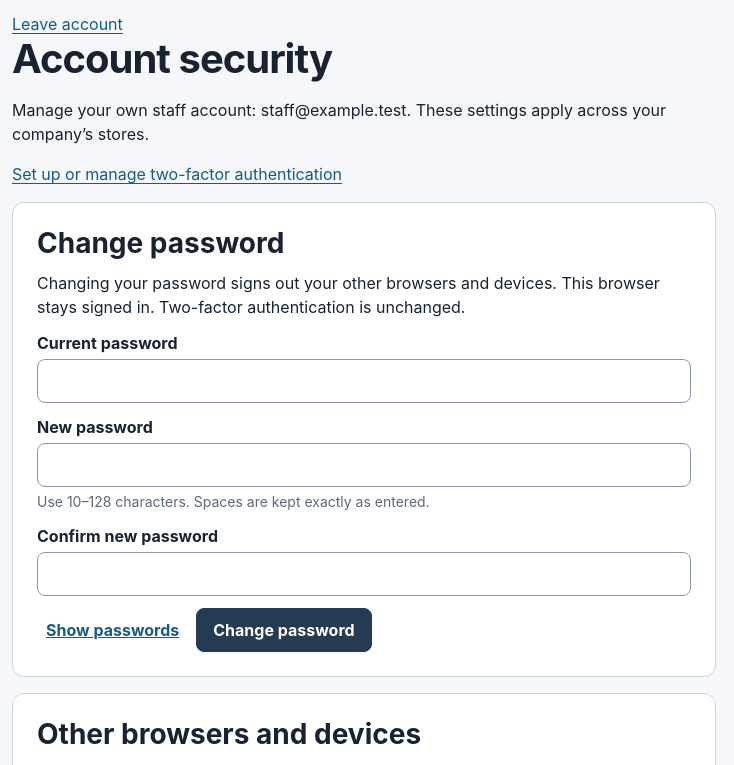
sends untrimmed secrets once, clears fields before the preflight and verifies the reissued session
This screenshot has width=734, height=765.
Type " old password " into the password field labelled "Current password" at (364,381), box x1=37 y1=359 x2=691 y2=403
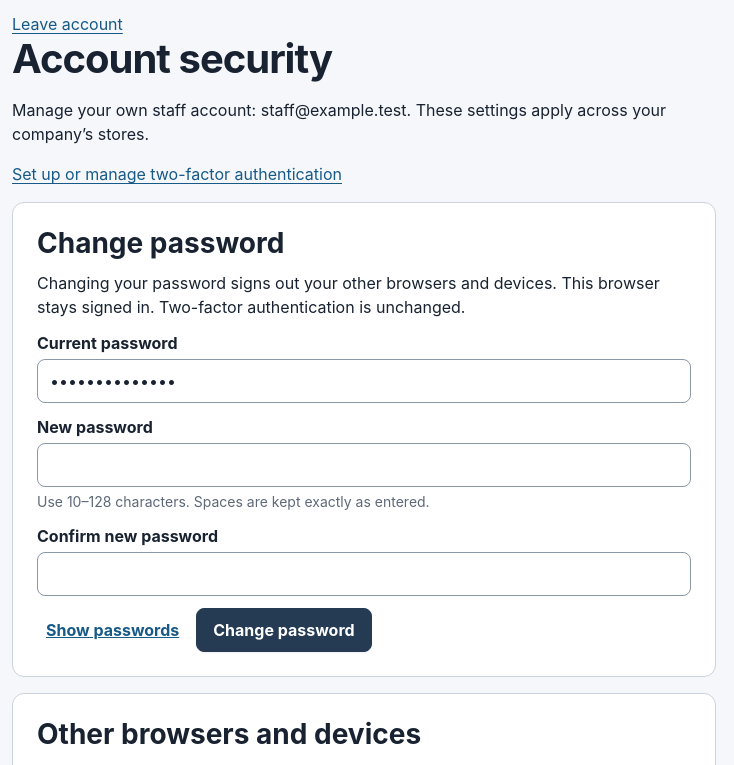
Type " new password " into the password field labelled "New password" at (364,465), box x1=37 y1=443 x2=691 y2=487
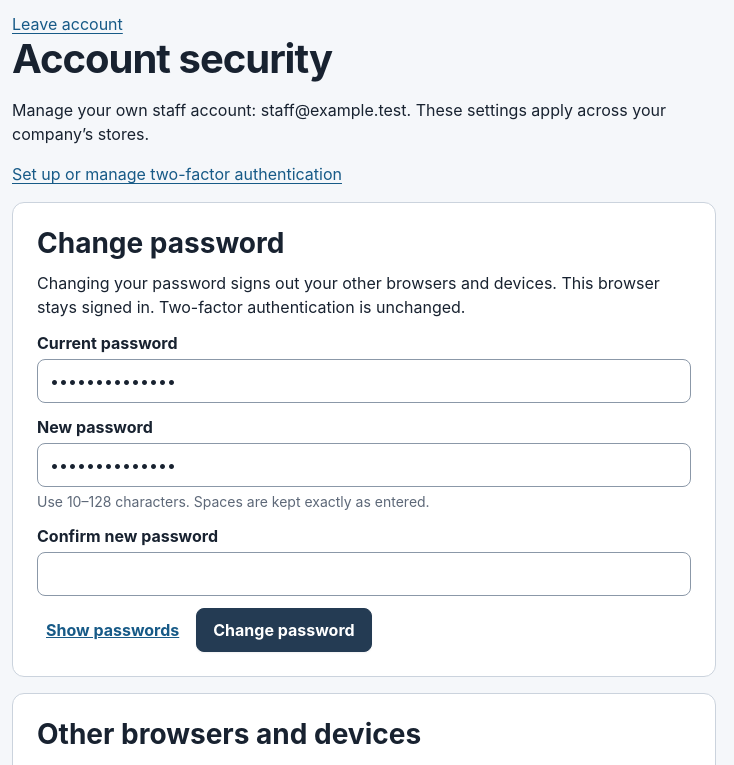
Type " new password " into the password field labelled "Confirm new password" at (364,574), box x1=37 y1=552 x2=691 y2=596
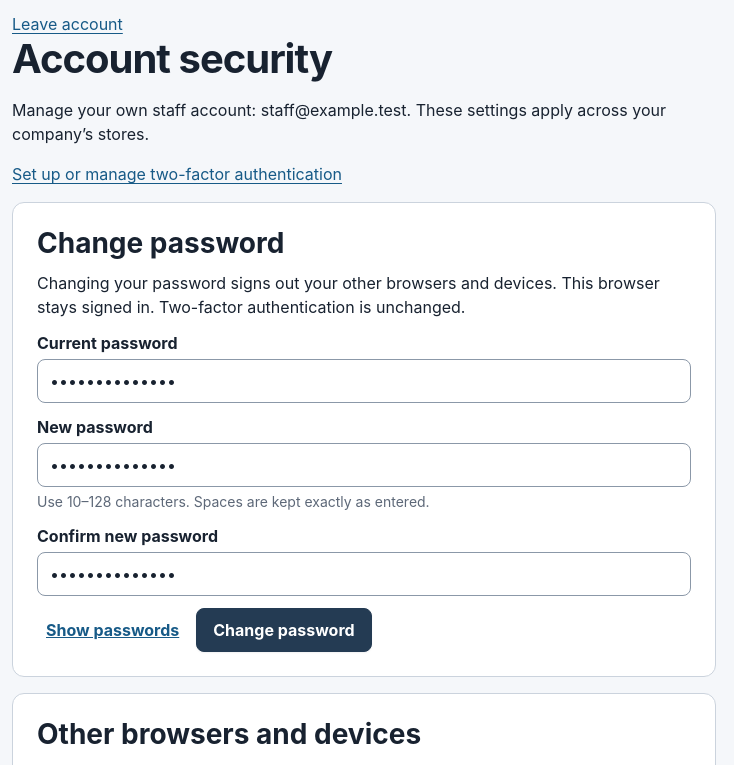
Click the button "Show passwords" at (113,630), box x1=37 y1=608 x2=188 y2=652
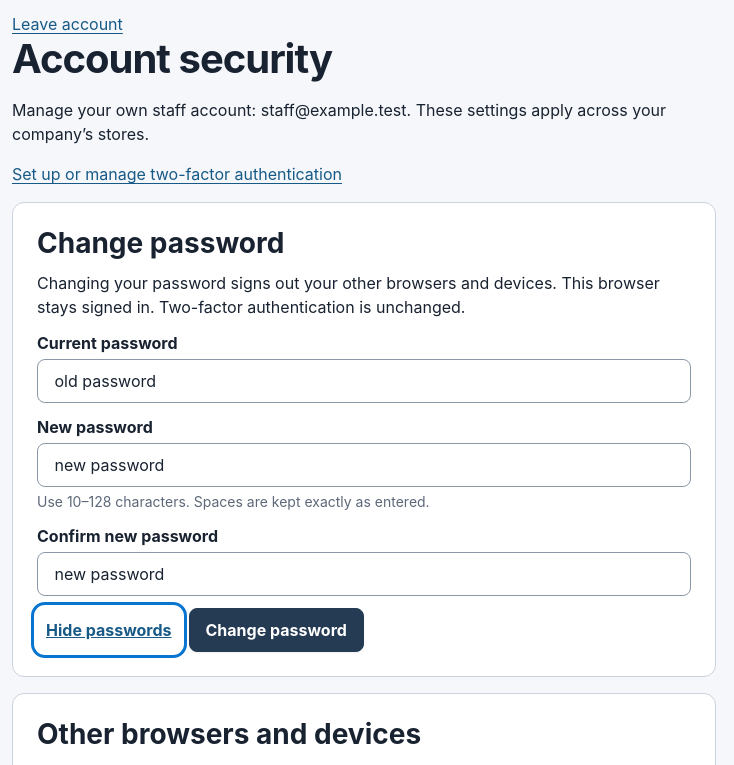
Submit the form, box x1=37 y1=331 x2=691 y2=652
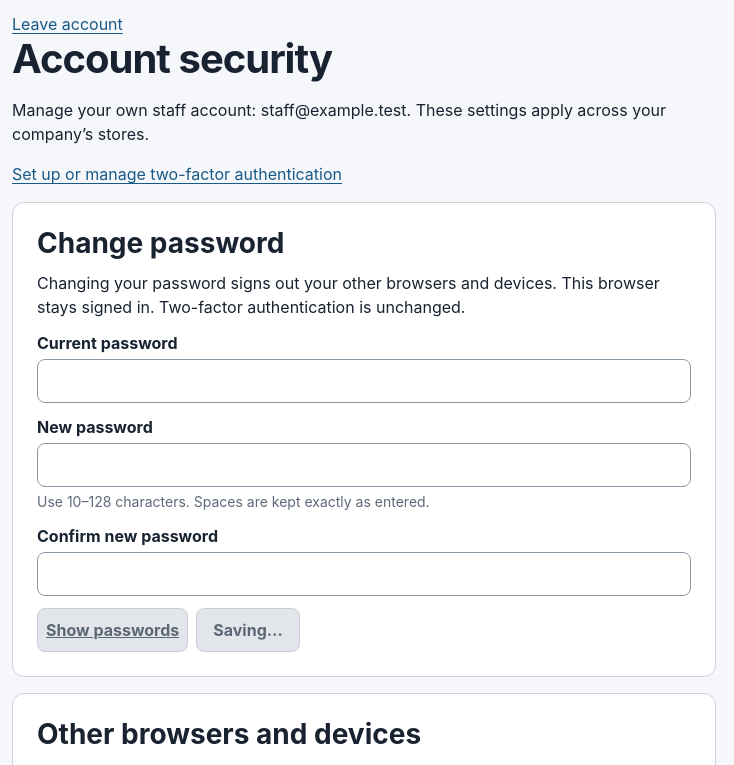
Submit the form, box x1=37 y1=331 x2=691 y2=652
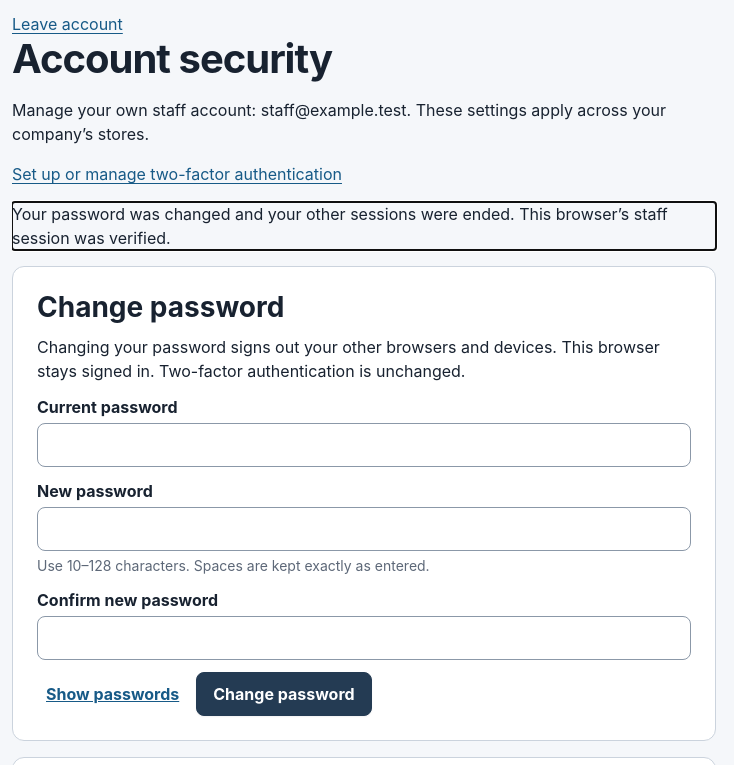
Result: the password field labelled "Current password" is empty at x1=37 y1=423 x2=691 y2=467
Result: the password field labelled "New password" is empty at x1=37 y1=507 x2=691 y2=551
Result: the text "Your password was changed and your other sessions were ended. This browser’s staff session was verified." is shown at x1=12 y1=204 x2=668 y2=248
